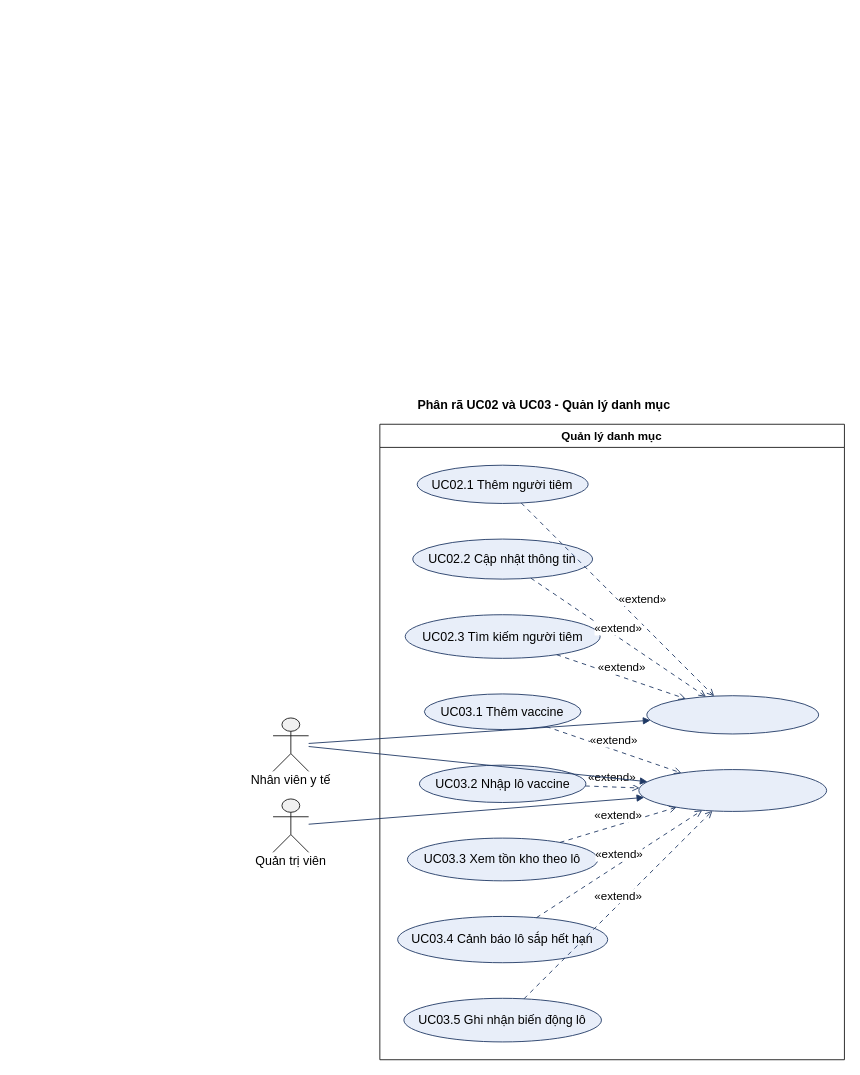
This 860x1075 diagram has some shape labels left out. Here are the shapes that lost their labels. From the top down, the centre of each, then its label:
[732,714]: UC02 Quản lý người tiêm
[732,790]: UC03 Quản lý vaccine và lô
